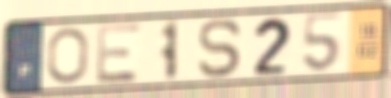1: (158, 18, 182, 84)
2: (249, 13, 296, 79)
5: (300, 10, 346, 76)
E: (94, 21, 144, 87)
O: (45, 25, 91, 86)
S: (196, 17, 245, 80)
